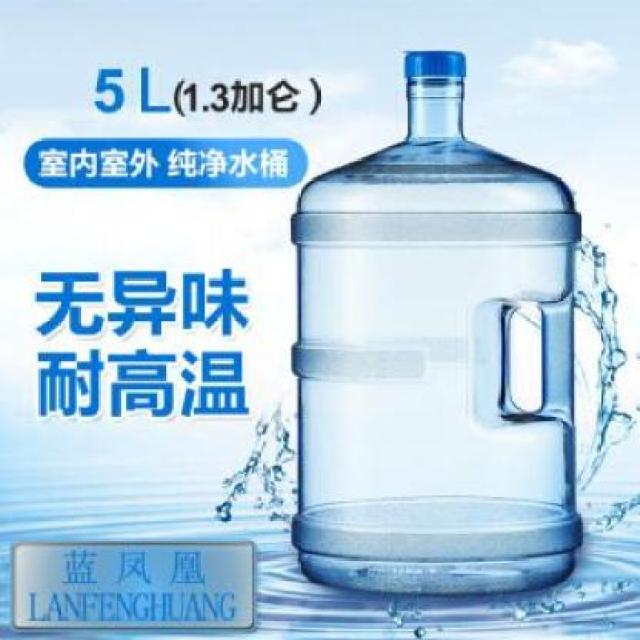coolerbottle: (283, 42, 587, 600)
